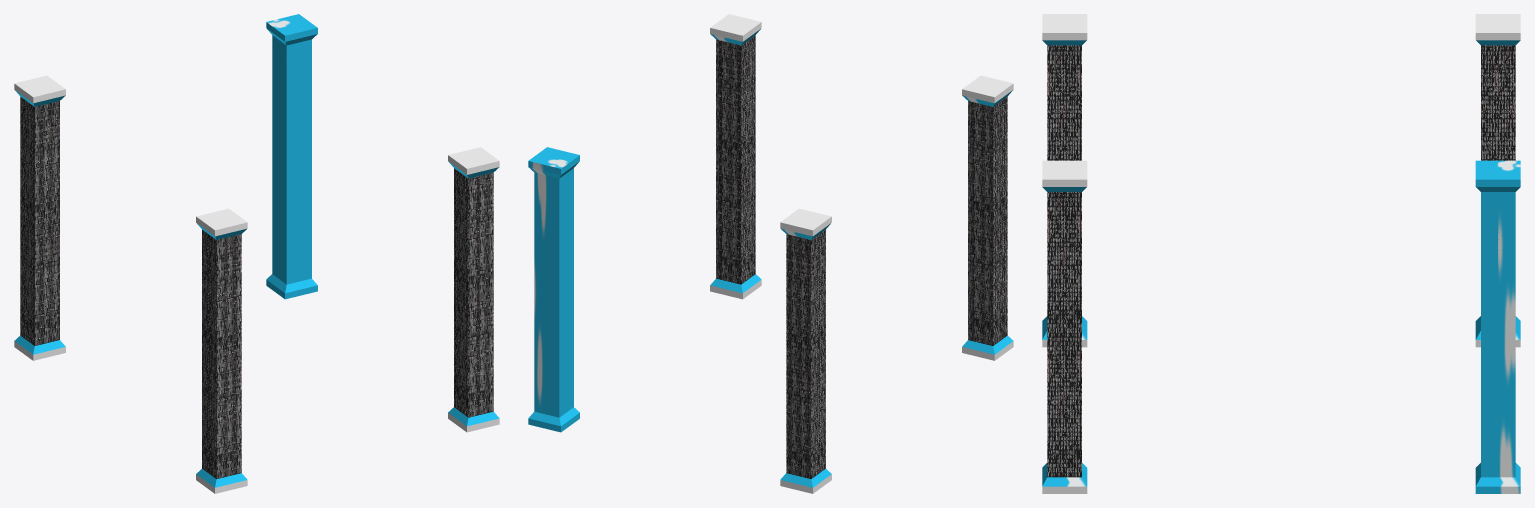
Rendered from MainRoomPillars.glb.
The picture shows the model from 3 angles, left to right: view 1: azimuth 30°, elevation 25°; view 2: azimuth 150°, elevation 25°; view 3: azimuth 270°, elevation 25°; orthographic projection. The views are drawn at different scales.
Parts seen in each view (by area): view 1: pillar front left, pillar back right, pillar front right, pillar back left; view 2: pillar front right, pillar back left, pillar front left, pillar back right; view 3: pillar front right, pillar back right, pillar front left, pillar back left.
Part boxes in pixels (x1,y1,x2,y2): pillar front left: (196, 208, 247, 493); pillar back right: (266, 14, 317, 299); pillar front right: (448, 147, 499, 432); pillar back left: (14, 75, 65, 360); pillar front right: (710, 14, 761, 299); pillar back left: (780, 208, 831, 493); pillar front left: (962, 75, 1013, 360); pillar back right: (528, 147, 579, 432); pillar front right: (1042, 160, 1087, 493); pillar back right: (1475, 160, 1520, 493); pillar front left: (1042, 14, 1087, 347); pillar back left: (1475, 14, 1520, 347).
Bounding box in the file's own units: 22.6 × 20 × 27.6.
3 materials, 2 textured.
